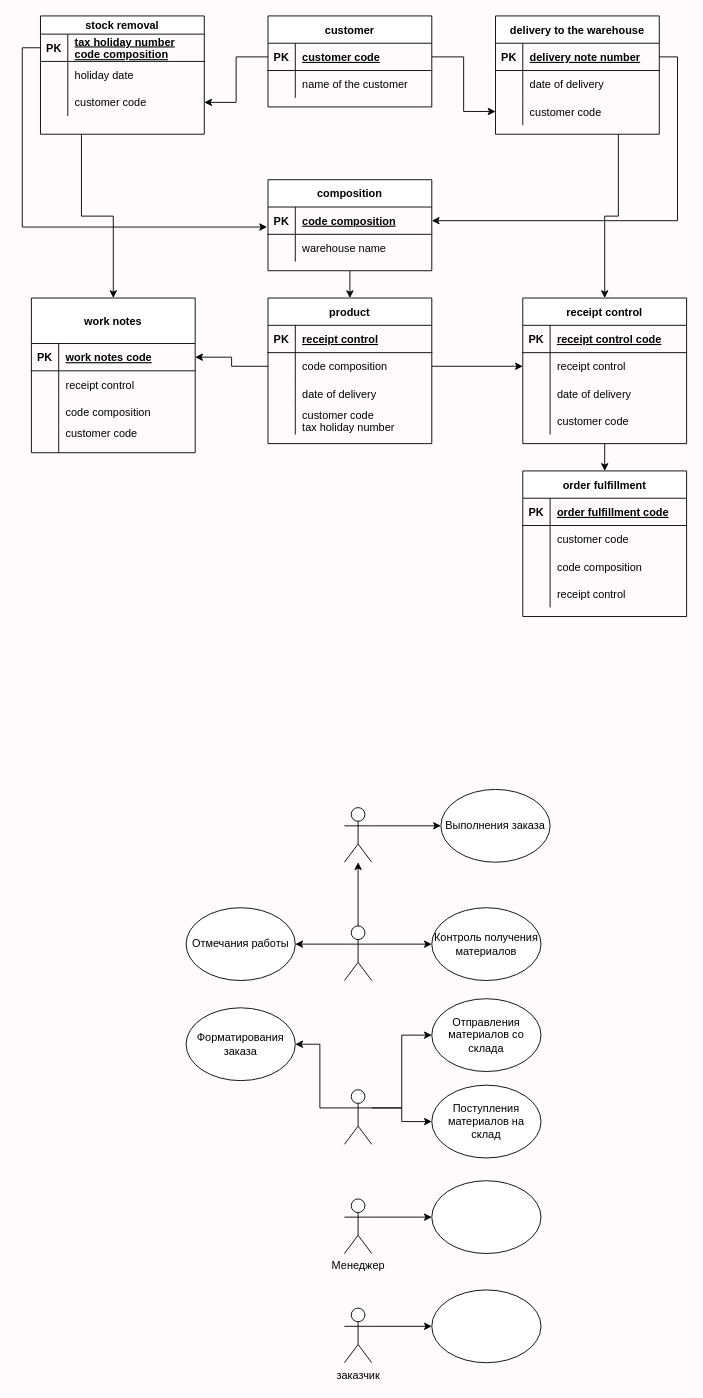
Some shapes in this 703 by 1398 pixel diagram are drawn without their labels. The shapes that lost their labels are listed below. From the top down, each one's centre as x and y in pixels, then its label:
At point (358, 834): "Рабочий".
At point (358, 953): "Прораб".
At point (358, 1116): "менеджер по складу".
At point (486, 1217): "Получения заказа".
At point (486, 1326): "Анализ заказа".
